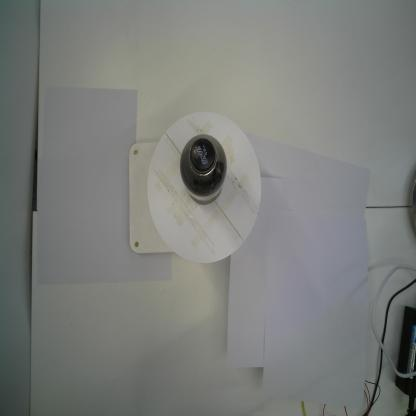Drink: (178, 133, 228, 206)
